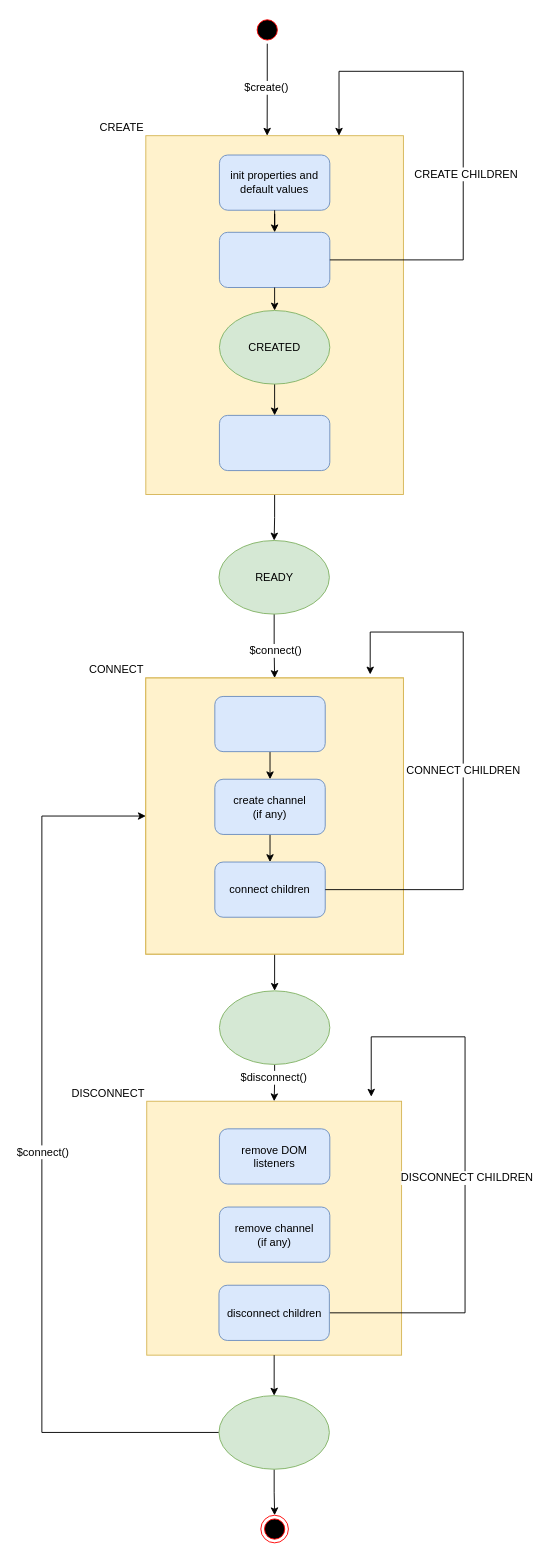
This 548x1559 diagram has some shape labels left out. The shapes that lost their labels are listed below. From the top down, each one's box as (x1, y1, x2, y2) in pixels, then its label:
(218, 231, 330, 288): render
(218, 414, 330, 471): inject properties, register listeners init reactivity
(214, 696, 325, 752): register DOM event listeners
(218, 990, 330, 1064): CONNECTED
(218, 1395, 329, 1469): DISCONNECTED
